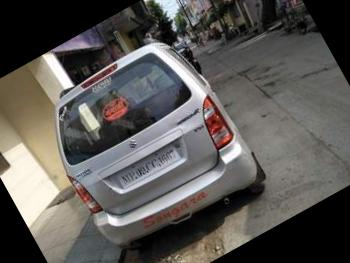plate: (104, 135, 196, 205)
